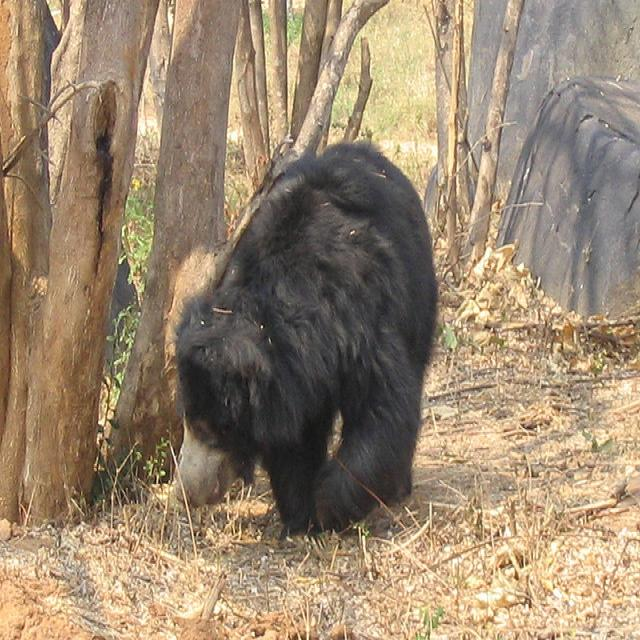Bear: (176, 126, 437, 539)
